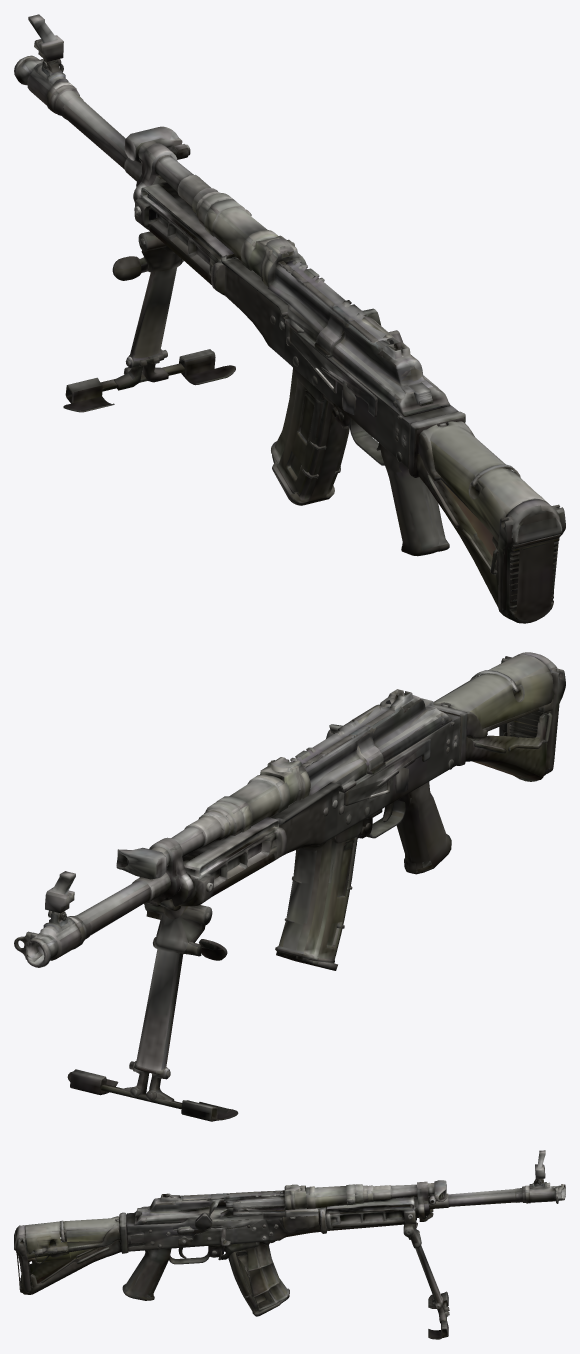
File: inf_lmg.glb
3 views of the same model, one above another, from view 1: azimuth 30°, elevation 25°; view 2: azimuth 150°, elevation 25°; view 3: azimuth 270°, elevation 25° (orthographic). The views are drawn at different scales.
Visible parts, largest first — view 1: tripo_node_db1709da-79f3-4821-b046-df120c250f03; view 2: tripo_node_db1709da-79f3-4821-b046-df120c250f03; view 3: tripo_node_db1709da-79f3-4821-b046-df120c250f03.
Part boxes in pixels (x1=…): tripo_node_db1709da-79f3-4821-b046-df120c250f03: x1=14, y1=14, x2=565, y2=623; tripo_node_db1709da-79f3-4821-b046-df120c250f03: x1=14, y1=652, x2=565, y2=1121; tripo_node_db1709da-79f3-4821-b046-df120c250f03: x1=14, y1=1150, x2=565, y2=1339.
Size of the model in its own units: 0.1919 by 0.3296 by 0.9995.
1 material, 1 textured.
